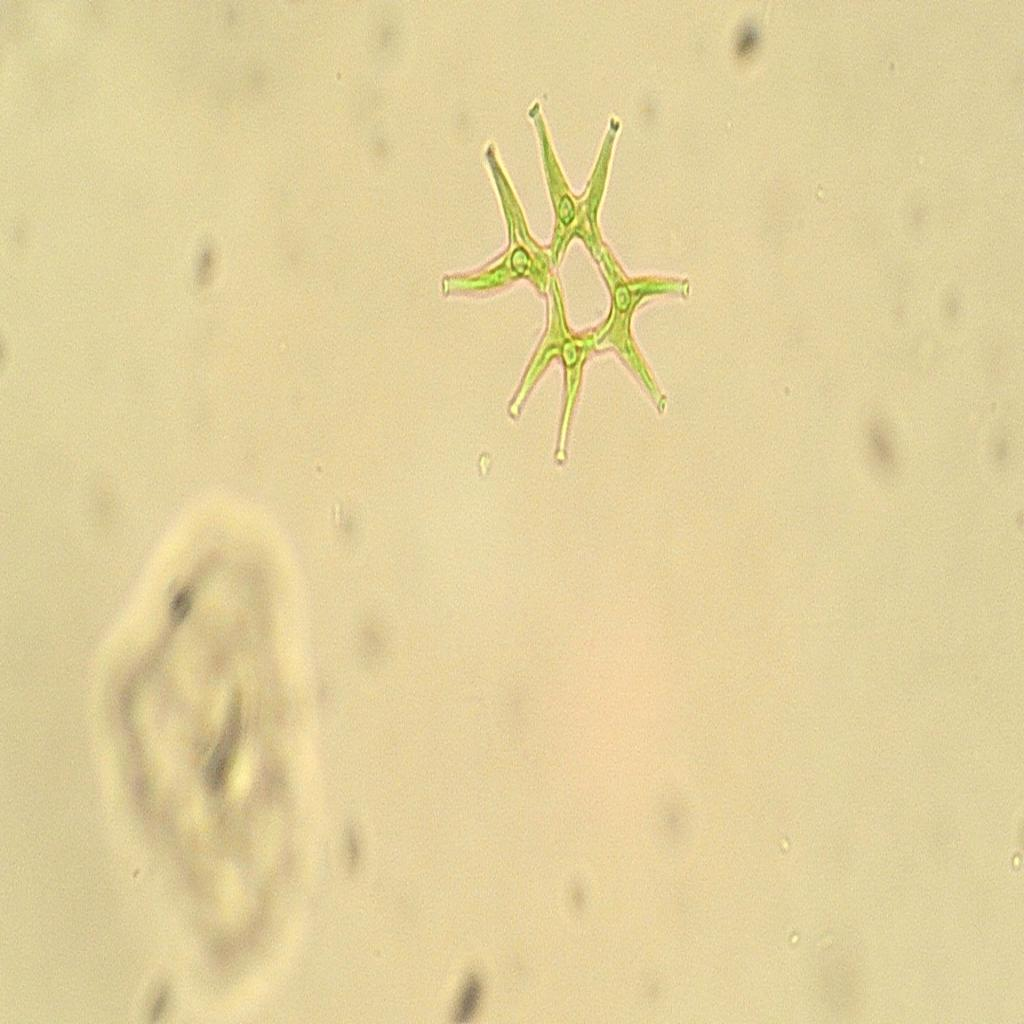Pediastrum_CT: (434, 73, 716, 469)
